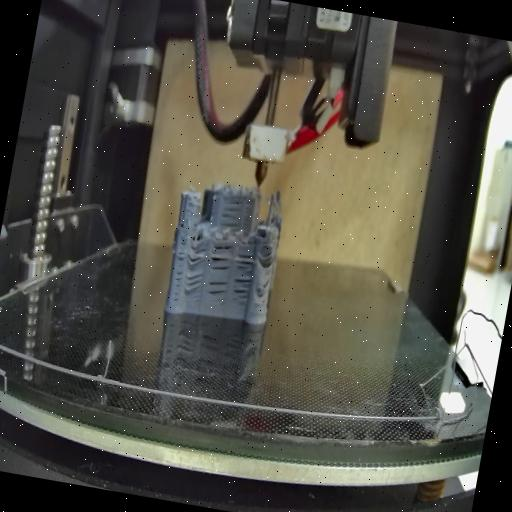cracks: (168, 238, 190, 306), (216, 195, 246, 228), (208, 241, 235, 276), (205, 274, 232, 308), (230, 271, 252, 306), (186, 238, 208, 270), (182, 268, 204, 300), (235, 250, 256, 274), (260, 246, 275, 270), (258, 274, 270, 292), (178, 216, 189, 230)
